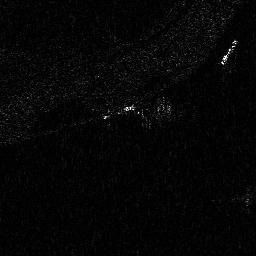ship: (220, 38, 238, 65)
